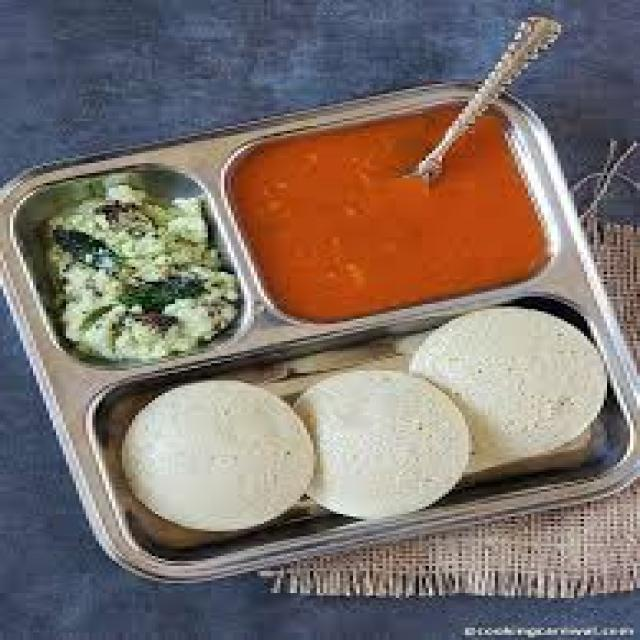chutney: (36, 183, 208, 341)
idli: (396, 301, 613, 472), (277, 366, 482, 529), (112, 383, 314, 524)
